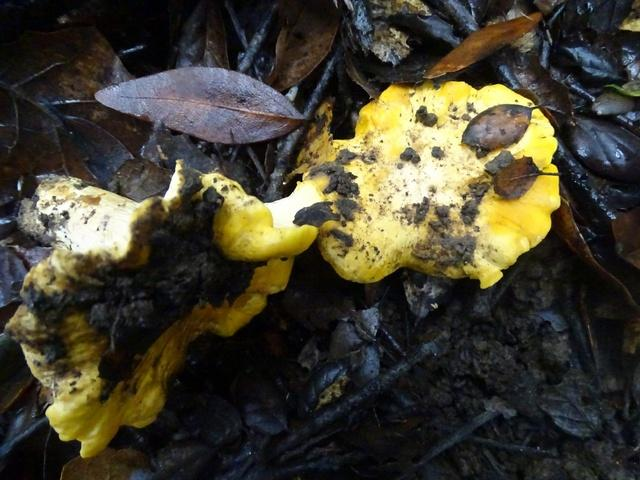Edible Mushroom: (14, 167, 295, 444), (286, 77, 562, 289)
